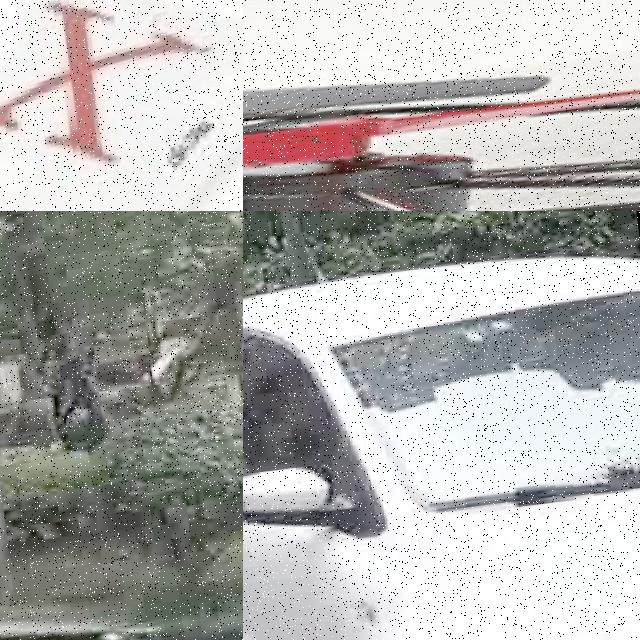drone: (0, 0, 243, 211)
